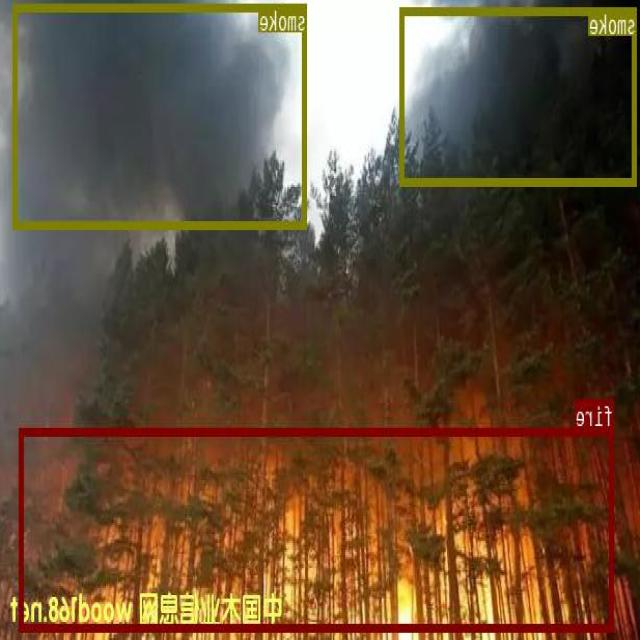fire: (21, 427, 614, 631)
smoke: (14, 2, 307, 228), (400, 6, 638, 184)
